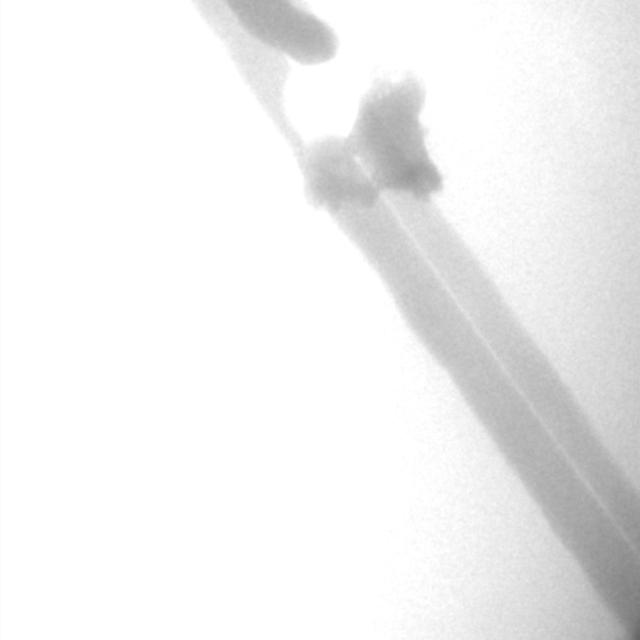broken arc: (228, 4, 635, 551)
